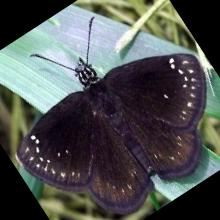butterfly: (18, 53, 207, 214)
